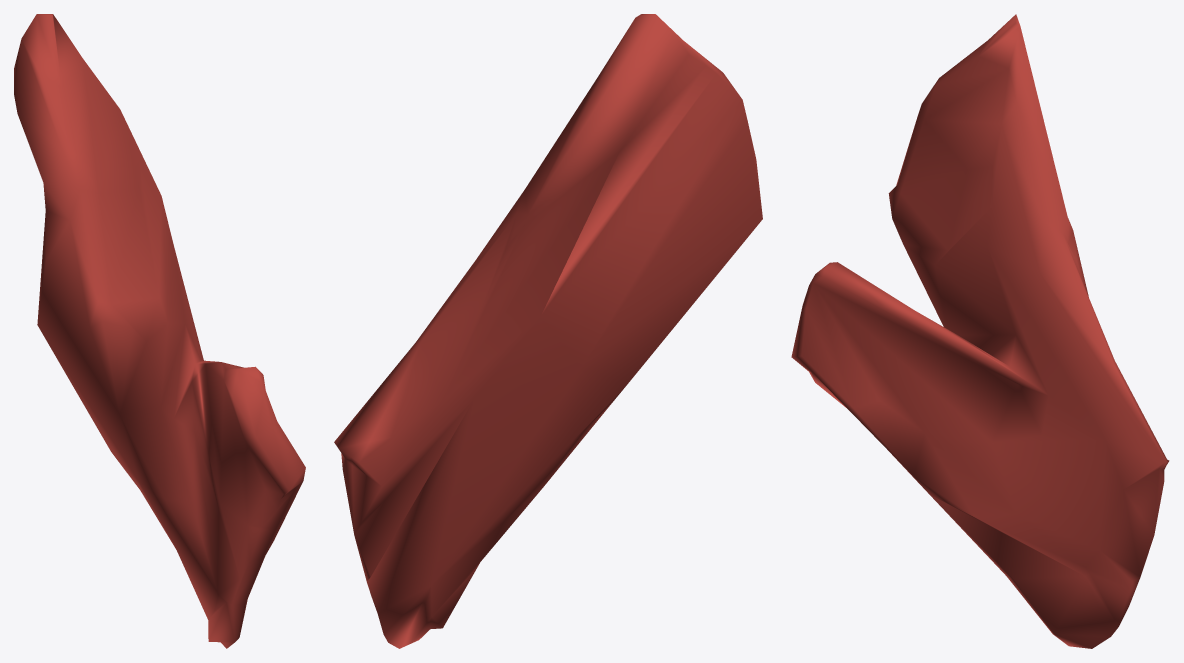
File: musculos-medial-pterygoid-muscle-l.glb
The picture shows the model from 3 angles, left to right: view 1: azimuth 30°, elevation 25°; view 2: azimuth 150°, elevation 25°; view 3: azimuth 270°, elevation 25°; orthographic projection. The views are drawn at different scales.
Visible parts, largest first — view 1: Medial pterygoid muscle.l; view 2: Medial pterygoid muscle.l; view 3: Medial pterygoid muscle.l.
Part boxes in pixels (x1,y1,x2,y2): Medial pterygoid muscle.l: (14, 14, 305, 648); Medial pterygoid muscle.l: (334, 14, 762, 648); Medial pterygoid muscle.l: (791, 14, 1169, 648).
Bounding box in the file's own units: 0.0225 × 0.0491 × 0.0307.
